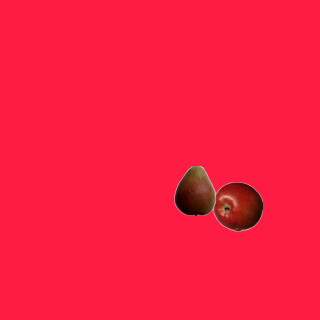Apple Braeburn: (212, 181, 262, 231)
Pear Forelle: (169, 165, 219, 215)
